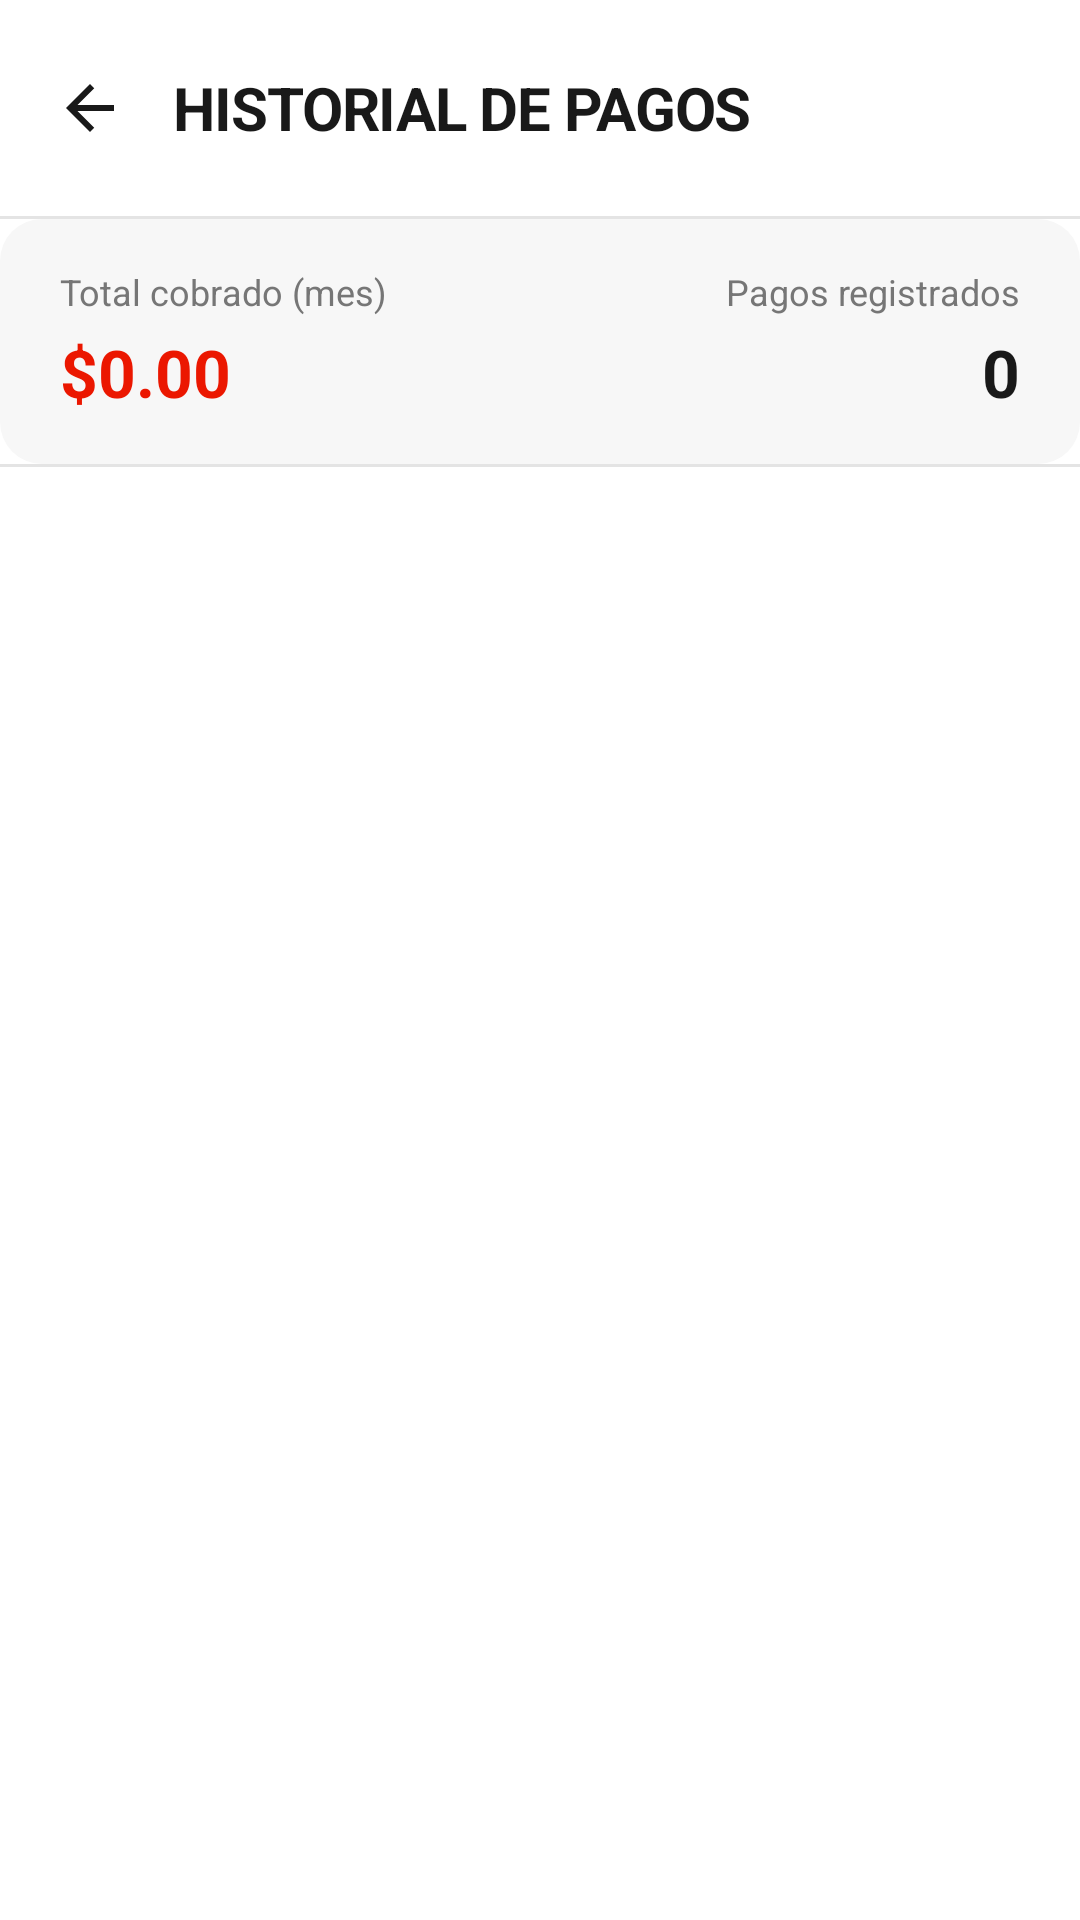

Locate icon controls on the screen. Image size 1080 × 1920, boxes as (x1, y1, x2, y2).
Atrás: (66, 84, 114, 132)
